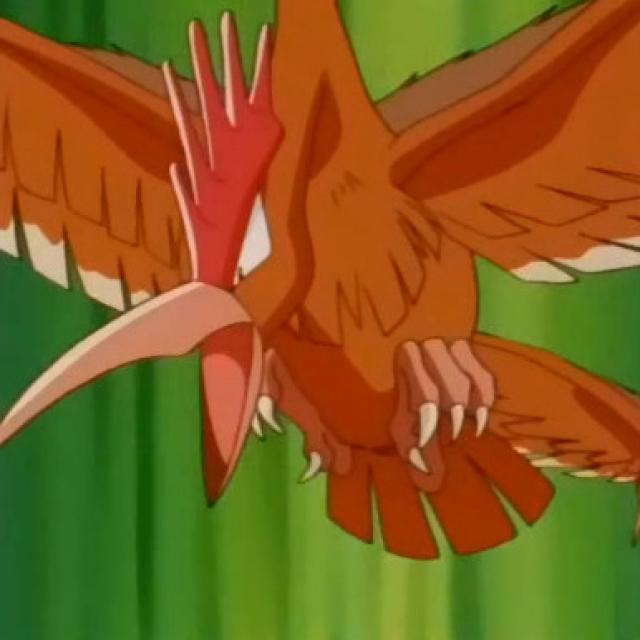Fearow: (0, 10, 640, 476)
